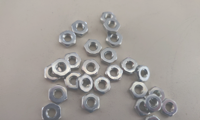nut: (82, 93, 101, 113), (161, 98, 179, 118), (49, 85, 67, 104), (130, 82, 149, 100), (94, 75, 112, 93), (84, 39, 102, 57), (59, 31, 78, 48), (42, 104, 62, 120), (77, 75, 94, 93), (82, 59, 100, 76), (64, 53, 82, 70), (101, 48, 119, 65), (106, 64, 124, 81), (147, 95, 164, 113), (52, 59, 71, 75), (65, 72, 82, 89), (45, 65, 62, 82), (122, 58, 139, 75), (149, 85, 166, 102), (72, 21, 89, 37), (106, 32, 124, 47), (104, 18, 122, 33), (135, 100, 151, 116), (136, 65, 151, 81), (100, 12, 117, 22), (144, 115, 162, 120)
